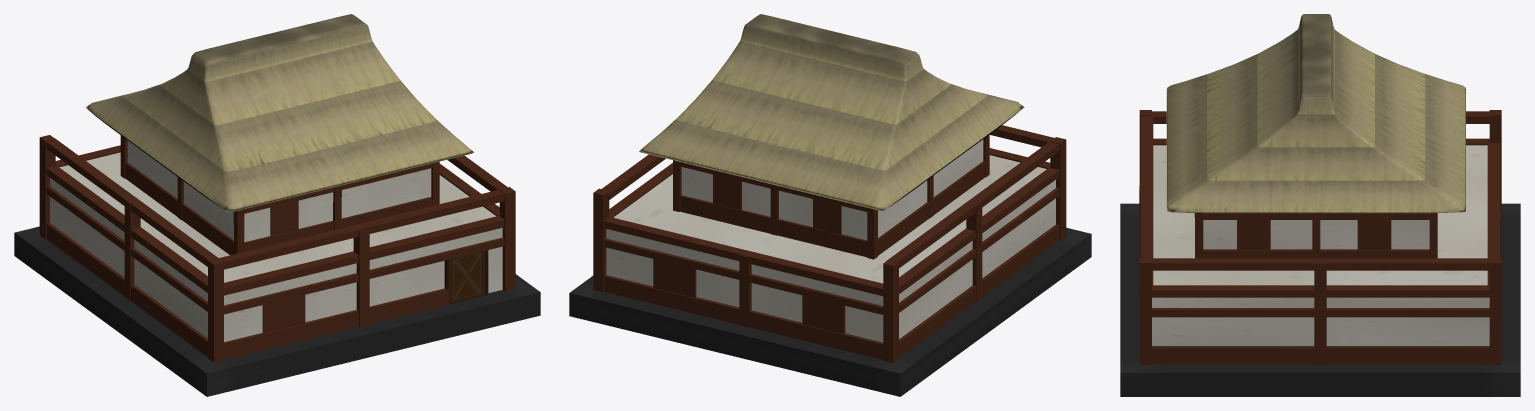
Rendered from building3_fixed.fbx.
3 views of the same model, side by side, from view 1: azimuth 30°, elevation 25°; view 2: azimuth 150°, elevation 25°; view 3: azimuth 270°, elevation 25° (orthographic). The views are drawn at different scales.
Parts seen in each view (by area): view 1: Cube.001; view 2: Cube.001; view 3: Cube.001.
Boxes of the visible parts, x1,y1,x2,y2 form: Cube.001: (14,14,540,396); Cube.001: (569,14,1091,396); Cube.001: (1120,14,1520,396).
Size of the model in its own units: 2983 by 2135 by 2983.
Materials: 5 (4 with a texture image).
